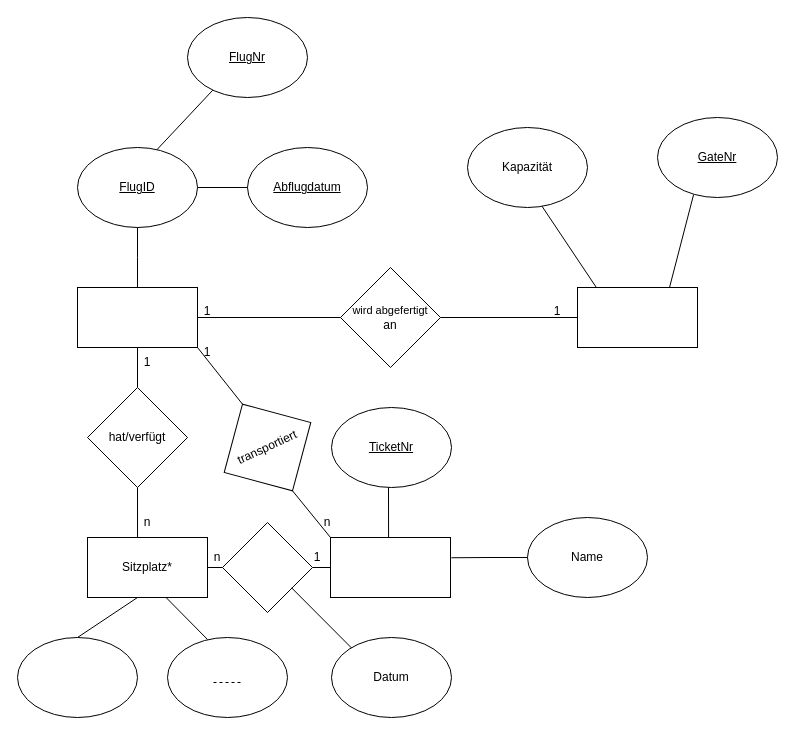
This 795x735 diagram has some shape labels left out. Here are the shapes that lost their labels. From the top down, the centre of each, then its label:
At pixel 137 317: "Flug".
At pixel 637 317: "Gate".
At pixel 267 567: "reserviert".
At pixel 390 567: "Passagier".
At pixel 77 677: "Klasse".
At pixel 227 677: "SitzNr".
